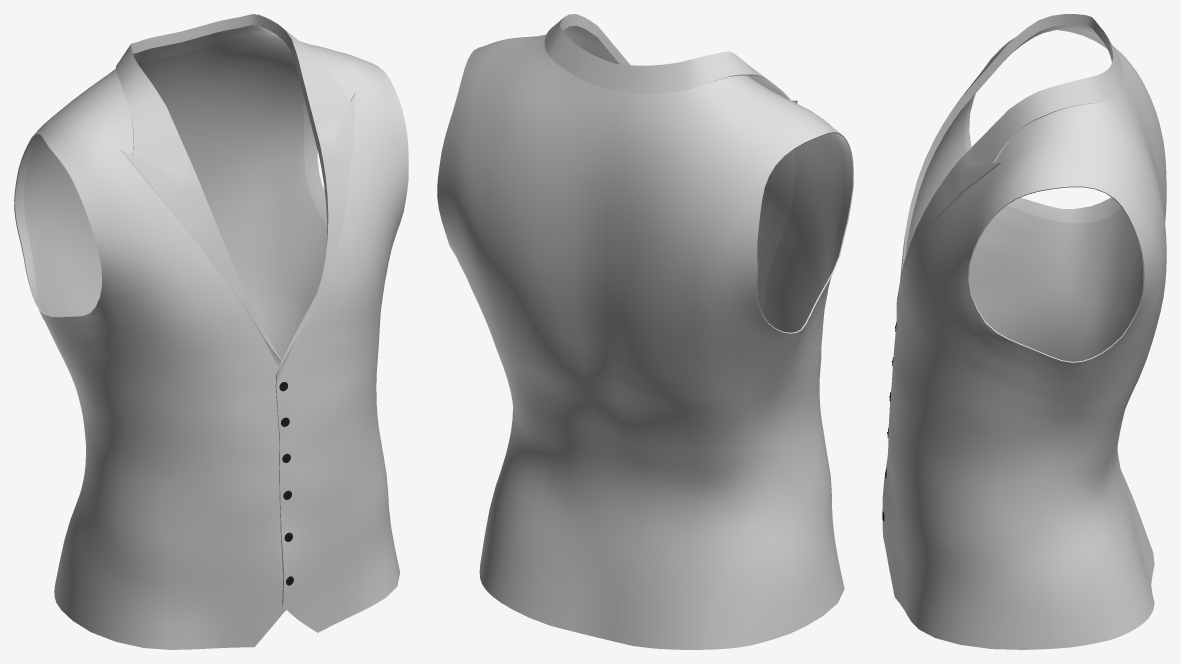
The model's file is SM_CarlosSA_Waistcoat_FrontButtons_SB6EnglishCut.fbx.
3 views of the same model, side by side, from view 1: azimuth 30°, elevation 25°; view 2: azimuth 150°, elevation 25°; view 3: azimuth 270°, elevation 25° (orthographic). The views are drawn at different scales.
Visible parts, largest first — view 1: SM_CarlosSA_Waistcoat_FrontButtons_SB6EnglishCut; view 2: SM_CarlosSA_Waistcoat_FrontButtons_SB6EnglishCut; view 3: SM_CarlosSA_Waistcoat_FrontButtons_SB6EnglishCut.
Boxes of the visible parts, <box> form: SM_CarlosSA_Waistcoat_FrontButtons_SB6EnglishCut: <box>14,14,408,649</box>; SM_CarlosSA_Waistcoat_FrontButtons_SB6EnglishCut: <box>437,14,853,649</box>; SM_CarlosSA_Waistcoat_FrontButtons_SB6EnglishCut: <box>882,14,1166,649</box>.
Bounding box in the file's own units: 0.3797 × 0.592 × 0.2829.
